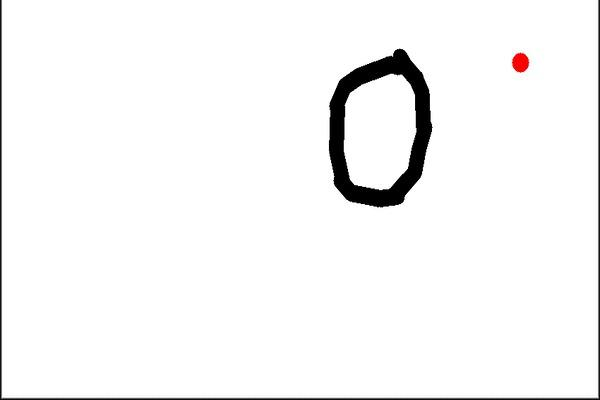O: (313, 38, 440, 211)
